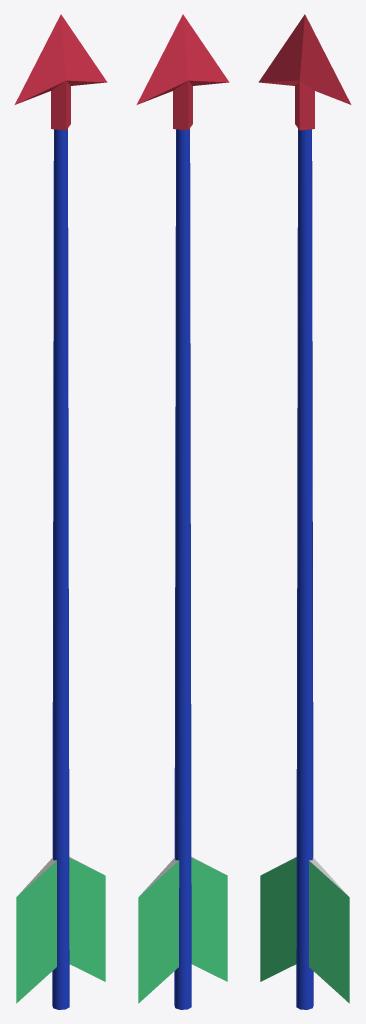
Rendered from CoolArrow_1.fbx.
3 renders of one model, left to right at view 1: azimuth 30°, elevation 25°; view 2: azimuth 210°, elevation 25°; view 3: azimuth 330°, elevation 25°, orthographic.
Visible parts, largest first — view 1: arrow; view 2: arrow; view 3: arrow.
Part boxes in pixels (left/top/right/bottom): arrow: left=14, top=14, right=107, bottom=1009; arrow: left=136, top=14, right=229, bottom=1009; arrow: left=258, top=14, right=351, bottom=1009.
Bounding box in the file's own units: 5.54 × 56.36 × 1.09.
